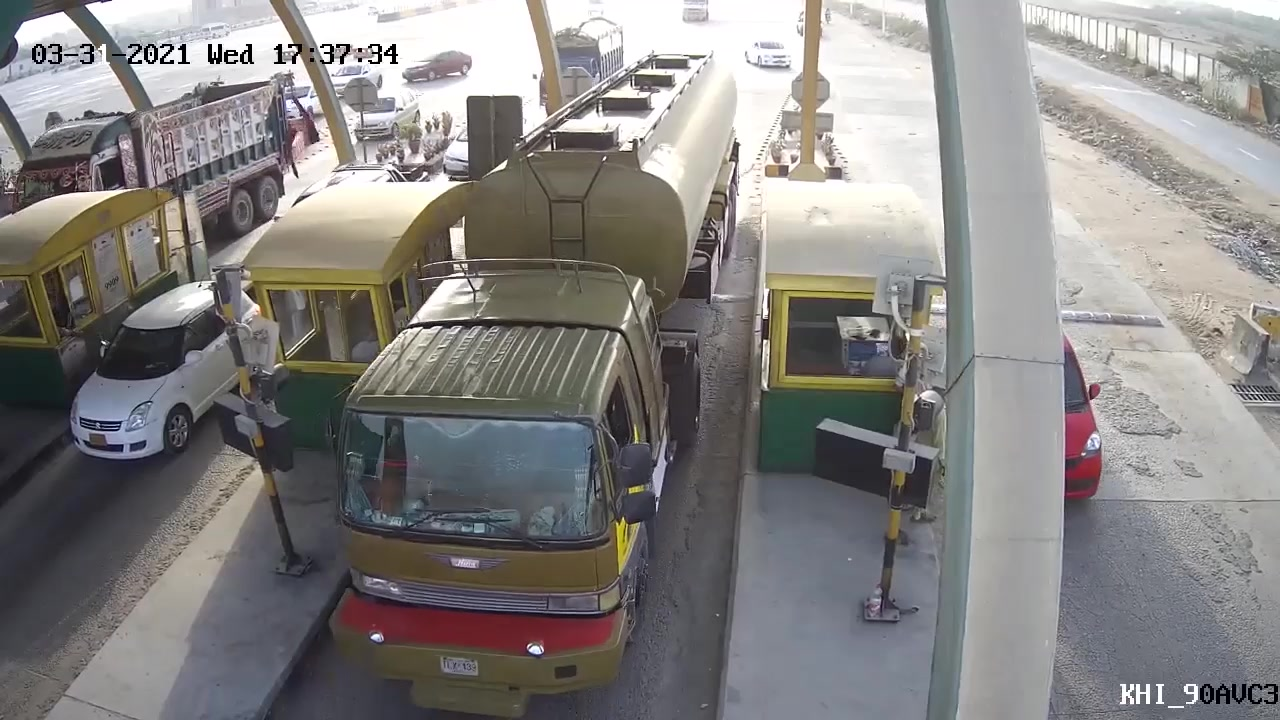F6: (320, 41, 742, 708)
